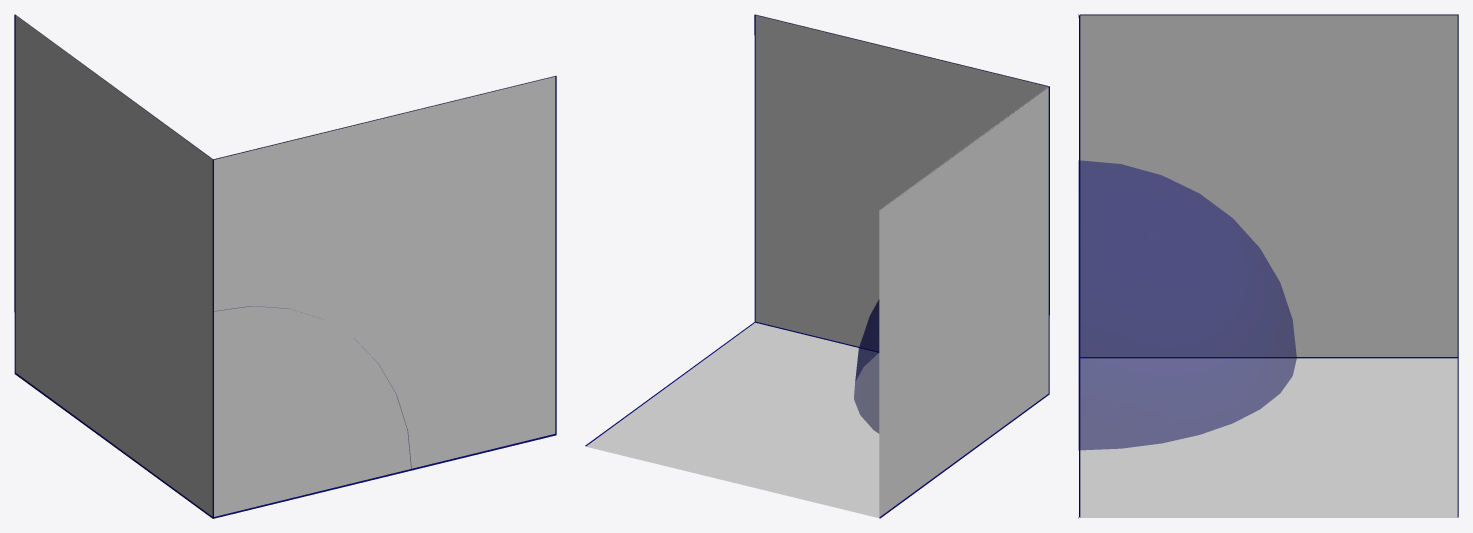
Rendered from angs_solido_hexaedro.glb.
The picture shows the model from 3 angles, left to right: view 1: azimuth 30°, elevation 25°; view 2: azimuth 150°, elevation 25°; view 3: azimuth 270°, elevation 25°; orthographic projection. The views are drawn at different scales.
Visible parts, largest first — view 1: Cube, Cube.001; view 2: Cube, Cube.001, Sphere; view 3: Cube, Sphere, Cube.001.
Boxes of the visible parts, left/top/right/bottom form: Cube: left=15, top=14, right=556, bottom=516; Cube.001: left=14, top=14, right=556, bottom=518; Cube: left=585, top=14, right=1048, bottom=517; Cube.001: left=585, top=14, right=1049, bottom=518; Sphere: left=854, top=299, right=879, bottom=433; Cube: left=1079, top=14, right=1458, bottom=517; Sphere: left=1078, top=160, right=1296, bottom=450; Cube.001: left=1078, top=14, right=1458, bottom=518.
Bounding box in the file's own units: 2 × 2 × 2.01.
